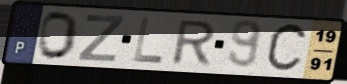9: (227, 18, 264, 73)
C: (263, 21, 311, 76)
L: (131, 16, 166, 65)
O: (37, 10, 81, 62)
R: (168, 19, 219, 67)
Z: (75, 13, 126, 64)
